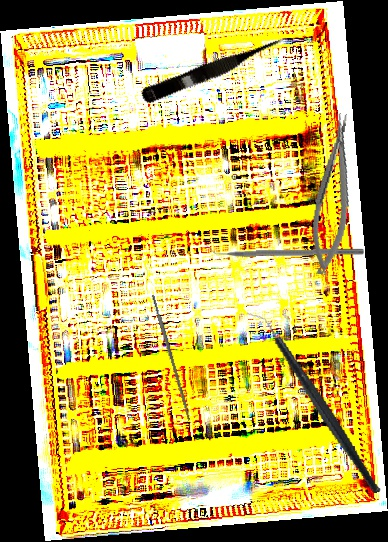Chopper: (244, 291, 383, 513), (204, 239, 365, 258)
Micro Scissor: (138, 31, 293, 109)
Needle Holder: (302, 111, 366, 278)
Scalpel Handle: (151, 293, 192, 422)
